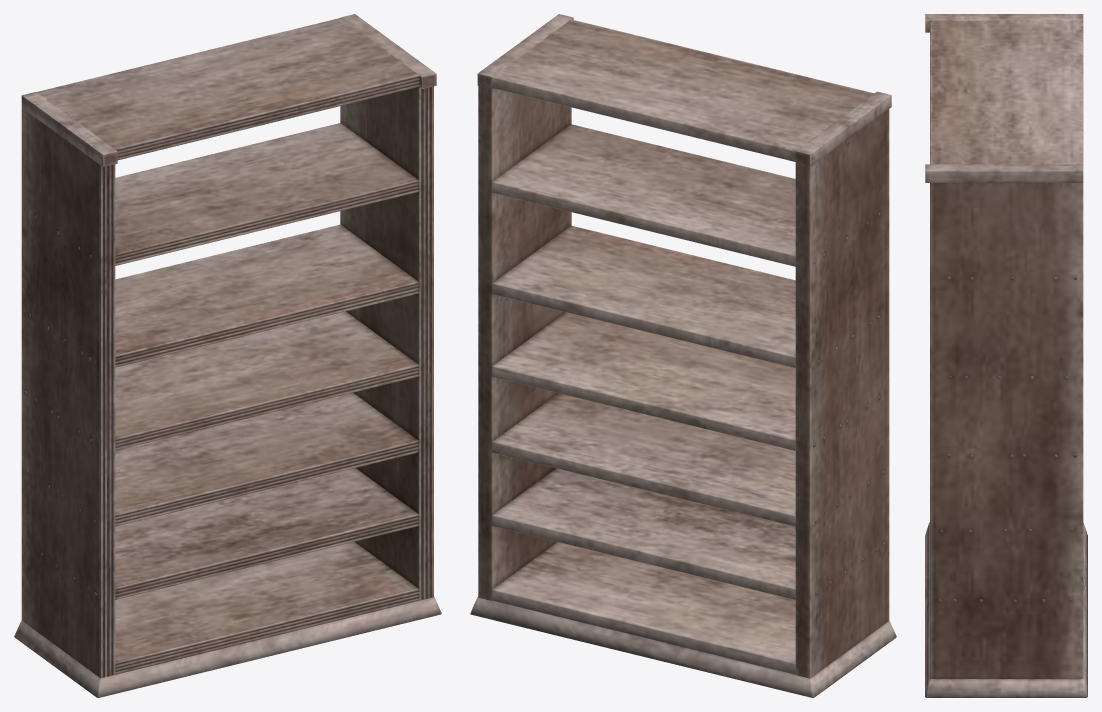
Rendered from cc0_bookshelf.glb.
The picture shows the model from 3 angles, left to right: view 1: azimuth 30°, elevation 25°; view 2: azimuth 150°, elevation 25°; view 3: azimuth 270°, elevation 25°; orthographic projection. The views are drawn at different scales.
Visible parts, largest first — view 1: wooden_bookshelf_worn; view 2: wooden_bookshelf_worn; view 3: wooden_bookshelf_worn.
Boxes of the visible parts, bbox=[...] form: wooden_bookshelf_worn: bbox=[14, 14, 441, 697]; wooden_bookshelf_worn: bbox=[470, 14, 896, 697]; wooden_bookshelf_worn: bbox=[925, 14, 1087, 697].
Size of the model in its own units: 1.37 by 2.06 by 0.5813.
1 material, 1 textured.
